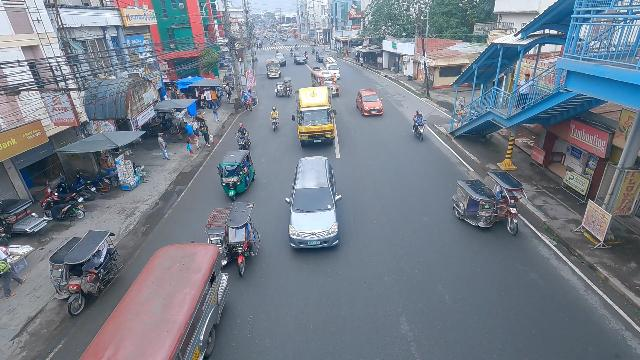car: (284, 155, 344, 255), (355, 88, 384, 116), (293, 51, 307, 66), (315, 49, 328, 63), (274, 53, 286, 66)
jeepney: (76, 241, 228, 360), (311, 67, 341, 98), (265, 57, 282, 79)
motorcycle: (411, 110, 427, 145), (235, 122, 251, 152), (269, 105, 281, 134), (290, 48, 294, 56), (312, 47, 315, 55), (275, 49, 279, 54), (295, 44, 298, 50)
truck: (290, 86, 340, 149)
